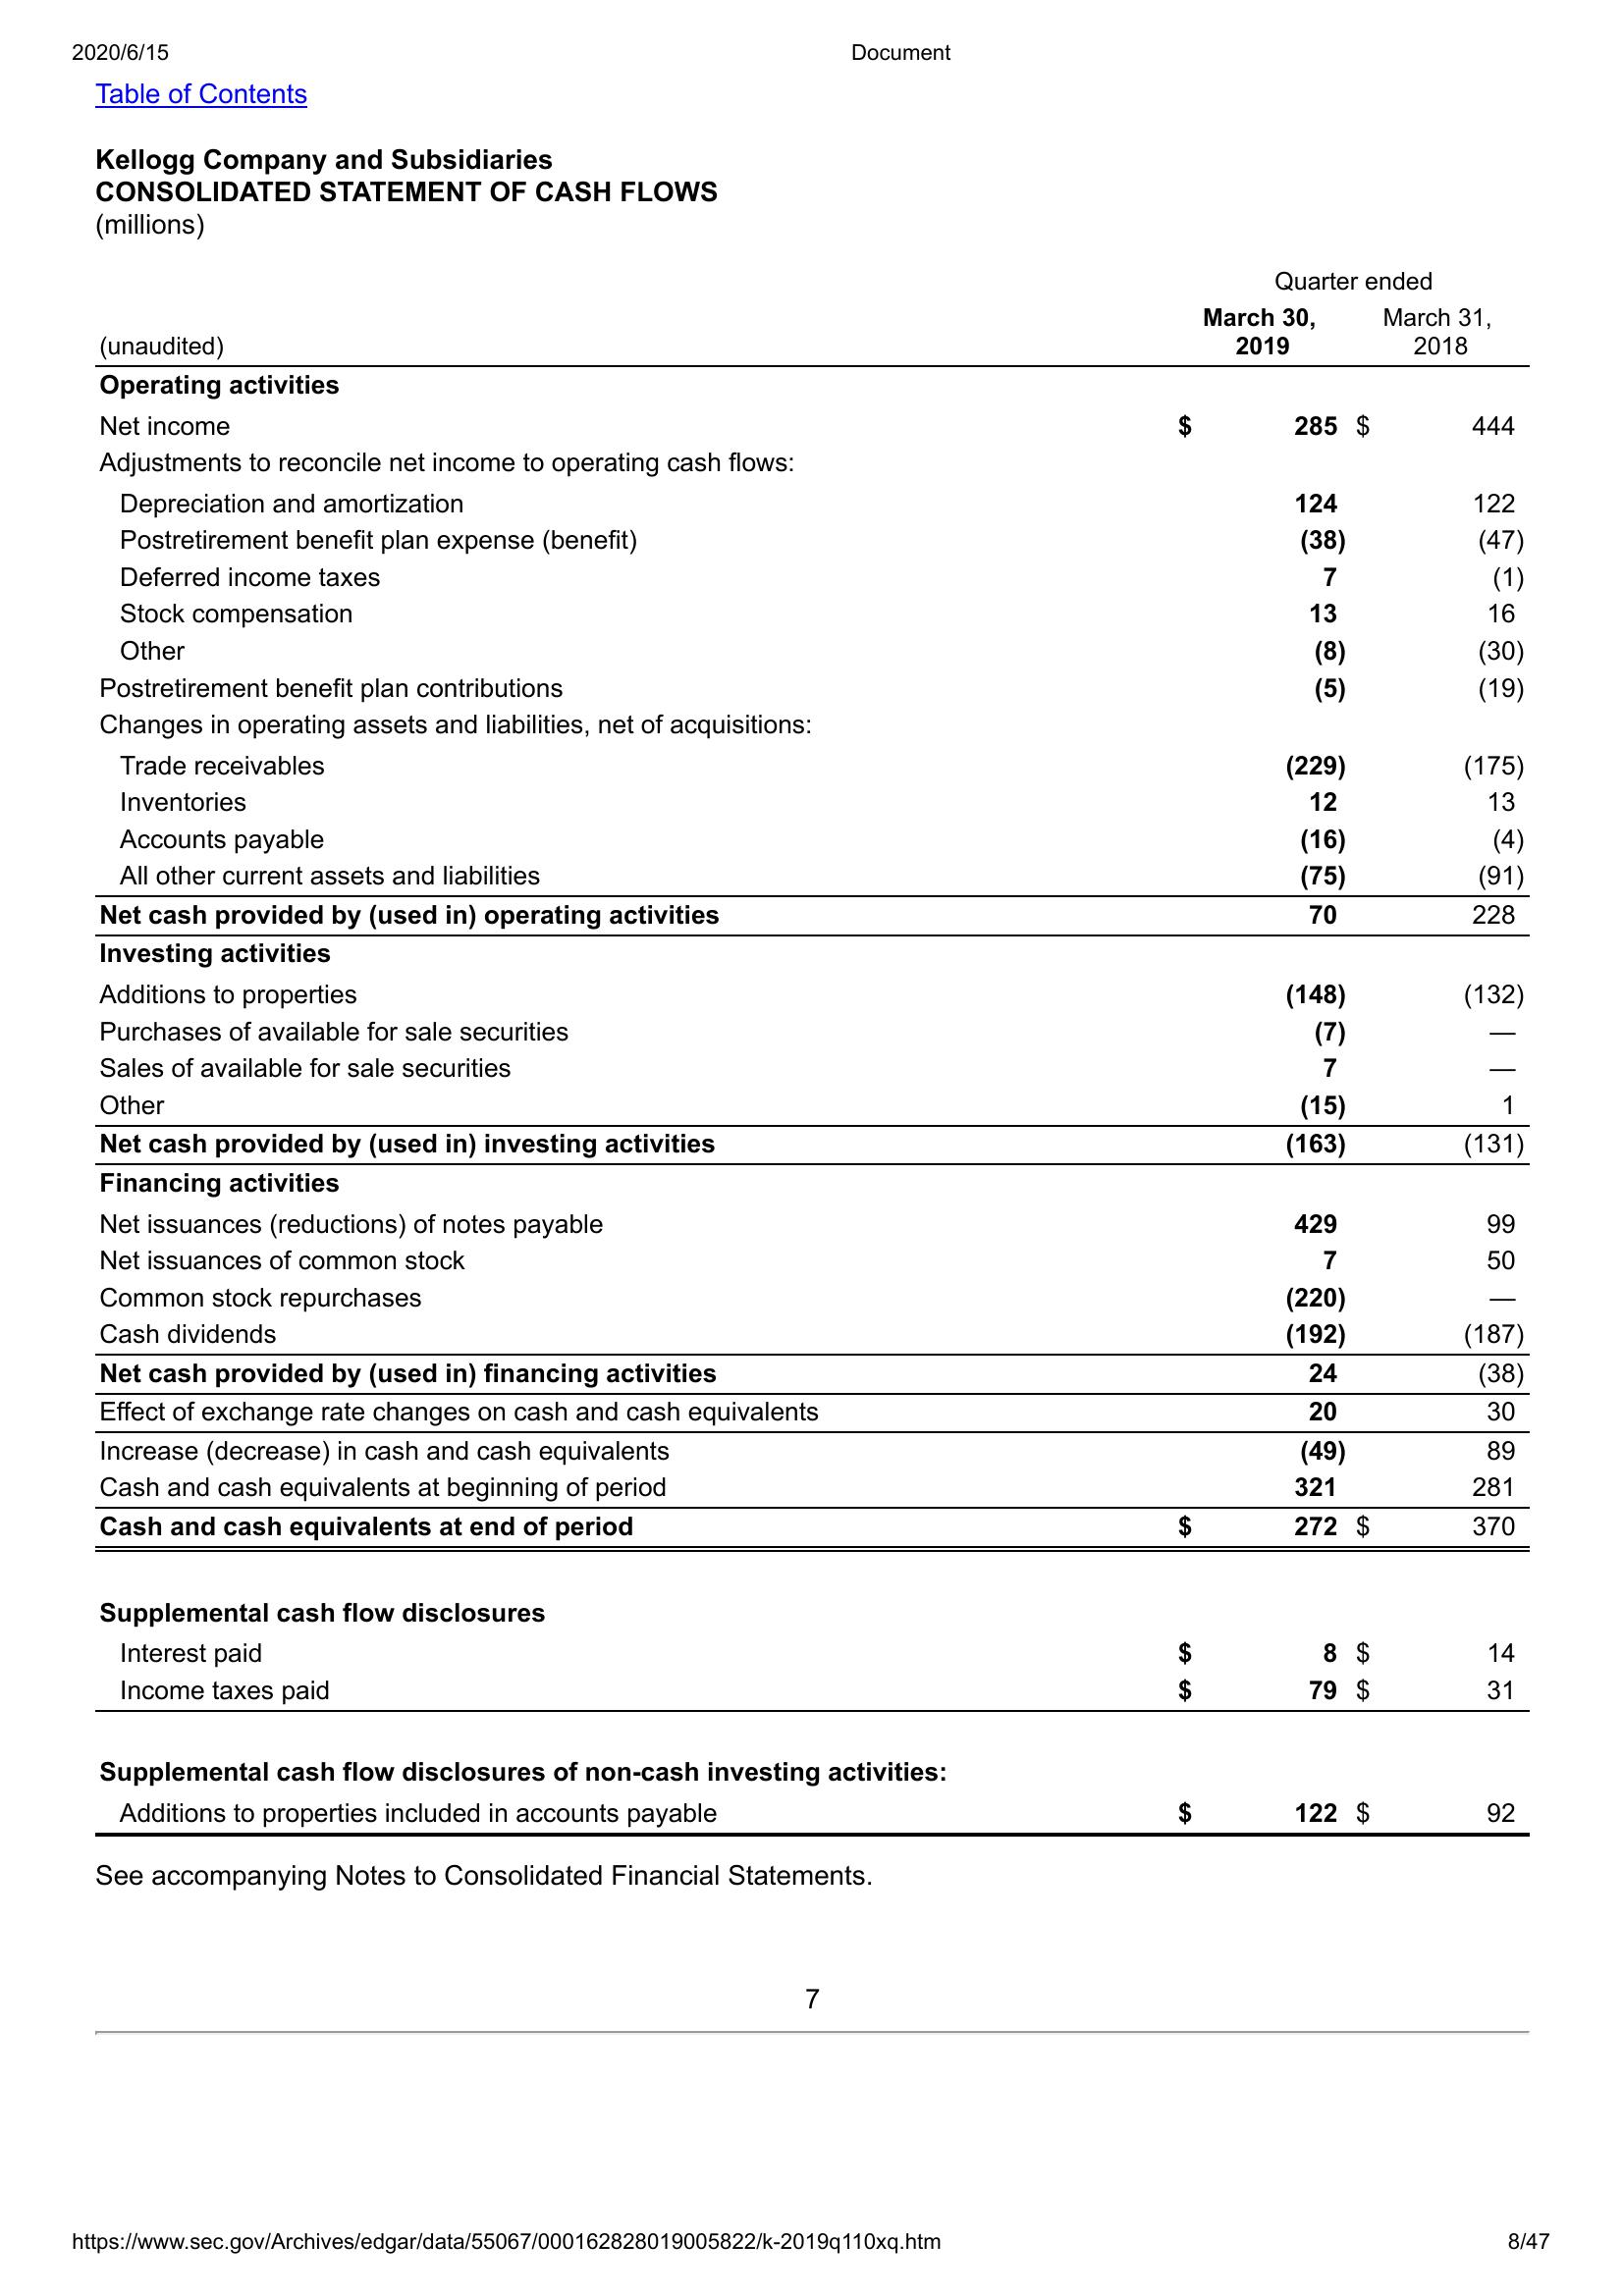table: (95, 260, 1530, 943), (95, 1204, 1540, 1559), (93, 1594, 1535, 1845), (90, 967, 1542, 1174)
